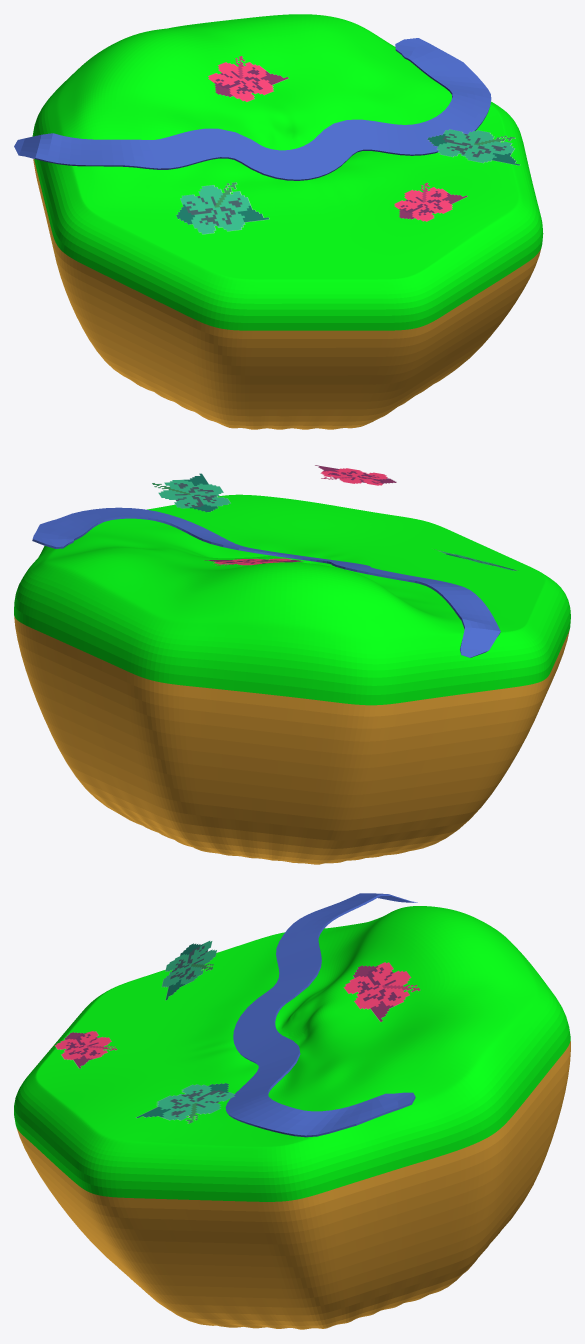
The model's file is escurrimiento.glb.
The picture shows the model from 3 angles, top to bottom: view 1: azimuth 30°, elevation 25°; view 2: azimuth 150°, elevation 25°; view 3: azimuth 270°, elevation 25°; orthographic projection. The views are drawn at different scales.
Parts seen in each view (by area): view 1: Cubo, Plano, Diseño sin título (1), Diseño sin título (1).001, Diseño sin título (2).001, Diseño sin título (2); view 2: Cubo, Plano, Diseño sin título (1).001, Diseño sin título (2); view 3: Cubo, Plano, Diseño sin título (2).001, Diseño sin título (1).001, Diseño sin título (1), Diseño sin título (2).
Boxes of the visible parts, x1,y1,x2,y2 form: Cubo: [32, 14, 543, 429]; Plano: [14, 38, 491, 180]; Diseño sin título (1): [176, 182, 269, 234]; Diseño sin título (1).001: [427, 129, 520, 165]; Diseño sin título (2).001: [208, 56, 288, 101]; Diseño sin título (2): [394, 182, 467, 221]; Cubo: [14, 494, 570, 864]; Plano: [32, 507, 500, 657]; Diseño sin título (1).001: [152, 473, 230, 512]; Diseño sin título (2): [314, 465, 396, 485]; Cubo: [14, 906, 570, 1329]; Plano: [225, 893, 417, 1137]; Diseño sin título (2).001: [343, 962, 420, 1021]; Diseño sin título (1).001: [136, 1083, 234, 1123]; Diseño sin título (1): [162, 941, 216, 1000]; Diseño sin título (2): [55, 1031, 117, 1068].
Bounding box in the file's own units: 5.88 × 3.84 × 5.83.
5 materials, 2 textured.
